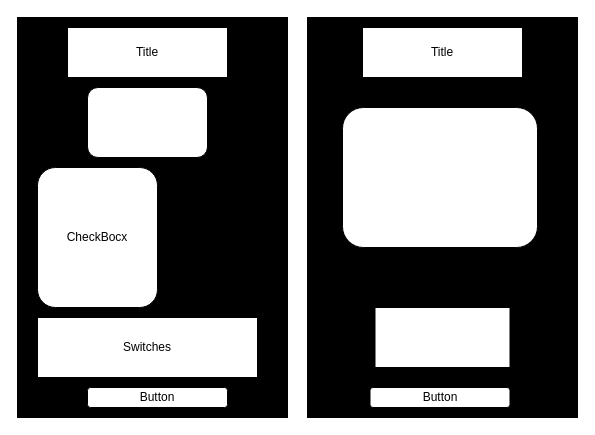
Image size: 595x435. Some labels were removed from this diagram. Here are the shapes that lost their labels. From the top down, the centre of each, then its label:
[147,122]: Radio Buttons
[440,177]: Order Details
[442,337]: Total
